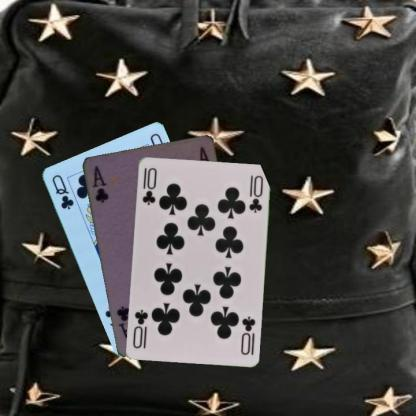10c: (139, 164, 158, 206), (238, 313, 256, 356)
Ac: (90, 163, 110, 204)
Qc: (49, 171, 75, 211)
